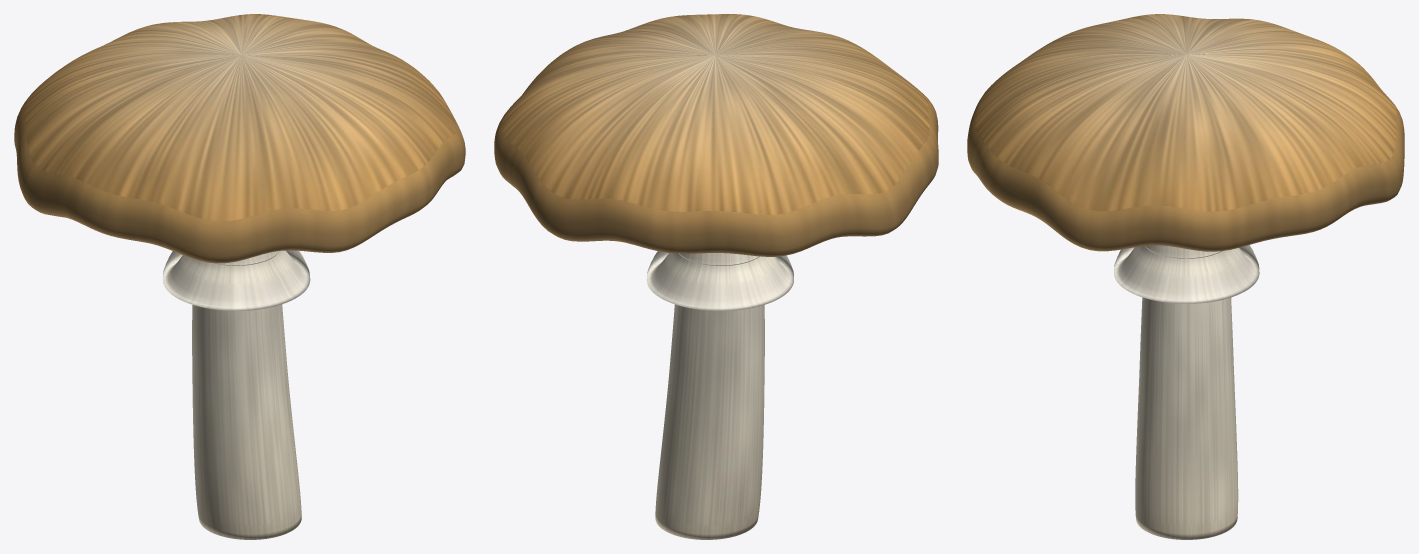
File: cortinarius-caperatus-drawn.glb
3 views of the same model, side by side, from view 1: azimuth 30°, elevation 25°; view 2: azimuth 150°, elevation 25°; view 3: azimuth 270°, elevation 25° (orthographic).
Size of the model in its own units: 0.7681 by 0.89 by 0.7657.
1 material, 1 textured.
